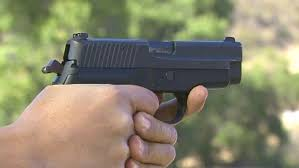gun: (42, 31, 243, 121)
